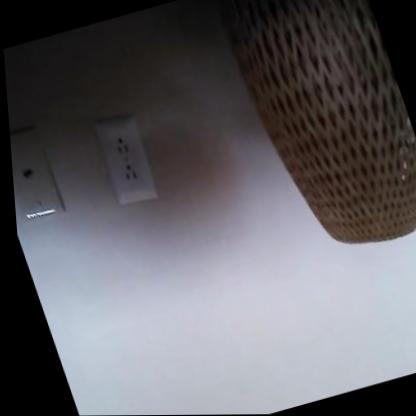OUTLET: (90, 113, 161, 207)
